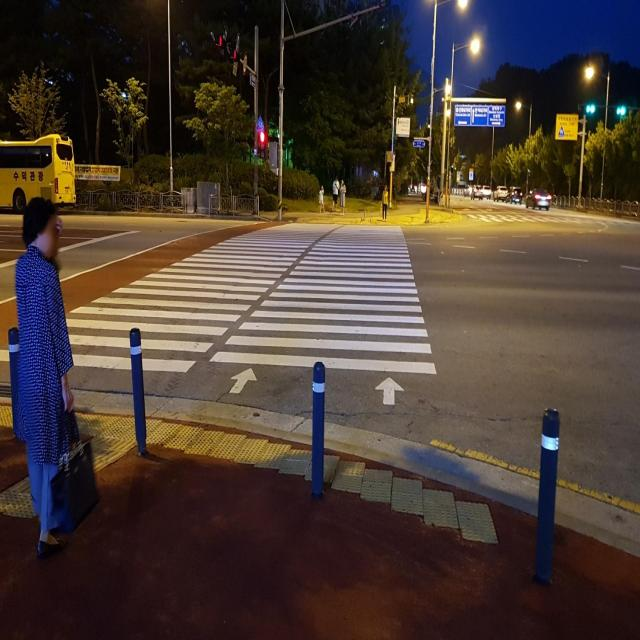빨간불: (258, 128, 266, 163)
횡단보도: (0, 218, 440, 410), (460, 209, 576, 230)
